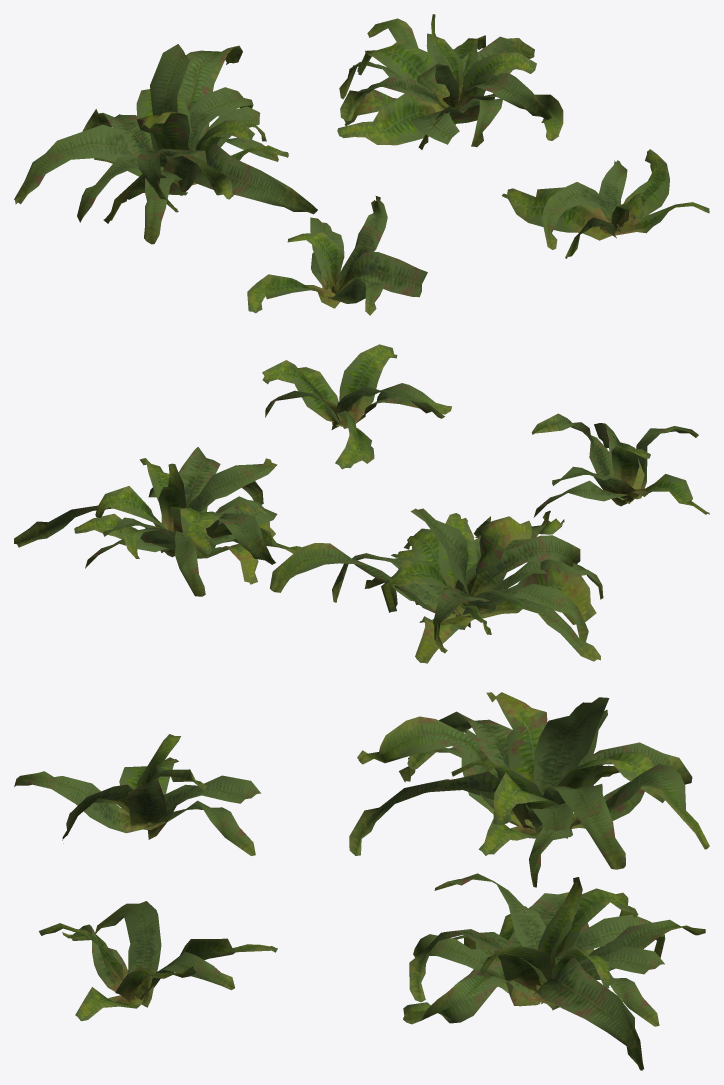
File: fern_02.glb
The picture shows the model from 3 angles, top to bottom: view 1: azimuth 30°, elevation 25°; view 2: azimuth 150°, elevation 25°; view 3: azimuth 270°, elevation 25°; orthographic projection. The views are drawn at different scales.
Parts seen in each view (by area): view 1: fern_02_b; view 2: fern_02_b; view 3: fern_02_b.
Boxes of the visible parts, bbox=[...] form: fern_02_b: bbox=[14, 14, 709, 315]; fern_02_b: bbox=[14, 344, 709, 663]; fern_02_b: bbox=[14, 692, 709, 1070].
Bounding box in the file's own units: 1.97 × 0.4277 × 1.72.
Materials: 1 (1 with a texture image).
